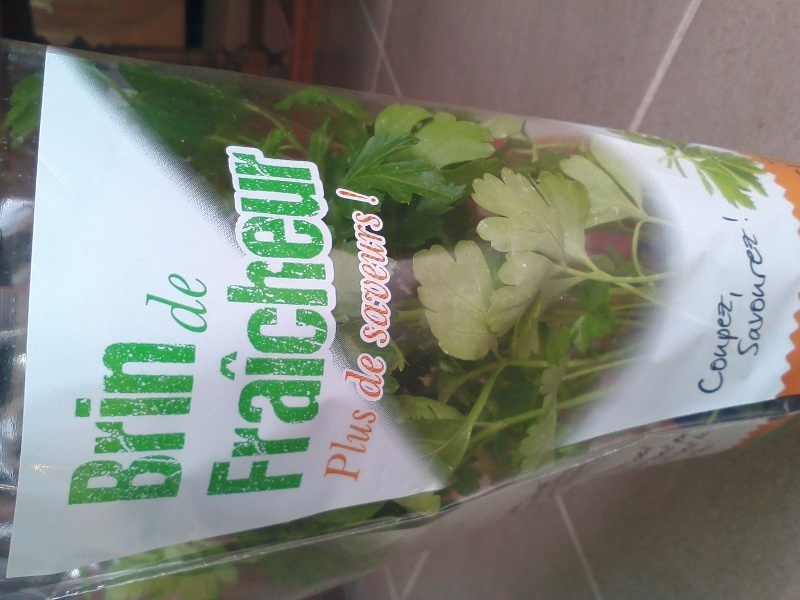text: (225, 138, 240, 498), (241, 138, 256, 498), (257, 138, 272, 498), (273, 138, 288, 498), (289, 138, 304, 498), (305, 138, 320, 498), (321, 138, 336, 498), (81, 339, 96, 508), (97, 339, 112, 508), (113, 339, 128, 508), (129, 339, 144, 508), (145, 339, 160, 508), (161, 339, 176, 508), (177, 339, 192, 508), (353, 210, 368, 356), (369, 210, 384, 356), (737, 231, 752, 368), (753, 231, 768, 368), (721, 285, 736, 400), (385, 210, 395, 356), (220, 138, 224, 498), (737, 285, 749, 400), (769, 231, 779, 368), (193, 339, 201, 508), (353, 400, 368, 486), (709, 285, 720, 400), (338, 400, 352, 486), (145, 267, 160, 336), (161, 267, 176, 336), (177, 267, 192, 336), (193, 267, 208, 336), (369, 400, 380, 486), (353, 349, 368, 407), (369, 349, 384, 407), (625, 425, 640, 473), (641, 425, 656, 473), (657, 425, 672, 473), (673, 425, 688, 473), (689, 425, 704, 473), (705, 425, 720, 473), (385, 349, 397, 407), (721, 425, 732, 473), (337, 185, 352, 210), (353, 185, 368, 210), (337, 138, 338, 498), (346, 349, 352, 407), (369, 185, 380, 210), (619, 425, 624, 473), (721, 212, 736, 226), (737, 212, 750, 226), (209, 267, 210, 336), (334, 185, 336, 210)
